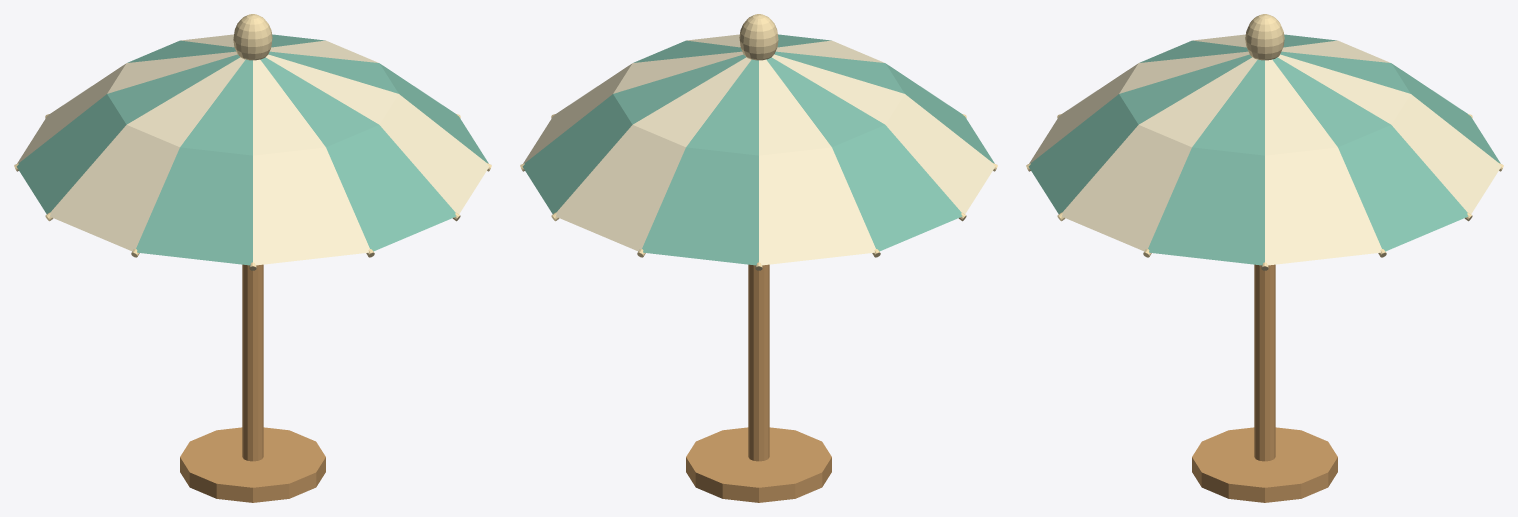
The model's file is SmallParasol.fbx.
3 renders of one model, left to right at view 1: azimuth 30°, elevation 25°; view 2: azimuth 150°, elevation 25°; view 3: azimuth 270°, elevation 25°, orthographic.
Parts seen in each view (by area): view 1: Canopy stripe.007, Canopy stripe.008, Canopy stripe.009, Canopy stripe.006, Parasol foot, Canopy stripe.005, Canopy stripe.010, Parasol pole, Canopy stripe.011, Canopy stripe.004, Top finial, Canopy stripe (+1 smaller); view 2: Canopy stripe.004, Canopy stripe.003, Canopy stripe.002, Canopy stripe.005, Parasol foot, Canopy stripe.001, Canopy stripe.006, Parasol pole, Canopy stripe, Canopy stripe.007, Top finial, Canopy stripe.011 (+1 smaller); view 3: Canopy stripe, Canopy stripe.011, Canopy stripe.001, Canopy stripe.010, Parasol foot, Canopy stripe.002, Canopy stripe.009, Parasol pole, Canopy stripe.003, Canopy stripe.008, Top finial, Canopy stripe.004 (+1 smaller).
Part boxes in pixels (x1,y1,x2,y2): Canopy stripe.007: (136,59,252,265); Canopy stripe.008: (253,59,369,265); Canopy stripe.009: (260,57,456,251); Canopy stripe.006: (49,57,245,251); Parasol foot: (180,427,325,502); Canopy stripe.005: (16,54,239,213); Canopy stripe.010: (266,54,489,213); Parasol pole: (242,264,263,461); Canopy stripe.011: (268,51,488,163); Canopy stripe.004: (17,51,237,163); Top finial: (233,14,272,60); Canopy stripe: (269,40,378,62); Canopy stripe.004: (759,59,875,265); Canopy stripe.003: (642,59,758,265); Canopy stripe.002: (555,57,751,251); Canopy stripe.005: (766,57,962,251); Parasol foot: (686,427,831,502); Canopy stripe.001: (522,54,745,213); Canopy stripe.006: (772,54,995,213); Parasol pole: (748,264,769,461); Canopy stripe: (523,51,743,163); Canopy stripe.007: (774,51,994,163); Top finial: (739,14,778,60); Canopy stripe.011: (633,40,742,62); Canopy stripe: (1265,59,1381,265); Canopy stripe.011: (1148,59,1264,265); Canopy stripe.001: (1272,57,1468,251); Canopy stripe.010: (1061,57,1257,251); Parasol foot: (1192,427,1337,502); Canopy stripe.002: (1278,54,1501,213); Canopy stripe.009: (1028,54,1251,213); Parasol pole: (1254,264,1275,461); Canopy stripe.003: (1280,51,1500,163); Canopy stripe.008: (1029,51,1249,163); Top finial: (1245,14,1284,60); Canopy stripe.004: (1281,40,1390,62).
Bounding box in the file's own units: 157 × 166 × 157.
